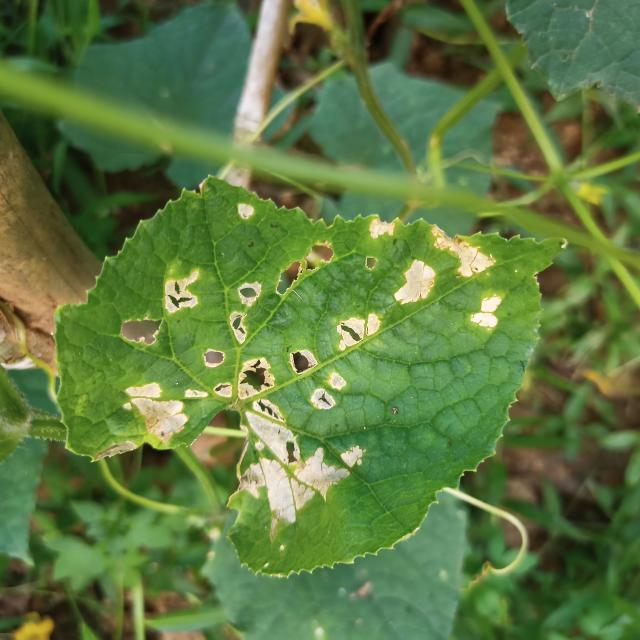disease_cucumber: (121, 271, 384, 522), (332, 222, 518, 364), (224, 198, 266, 226)
